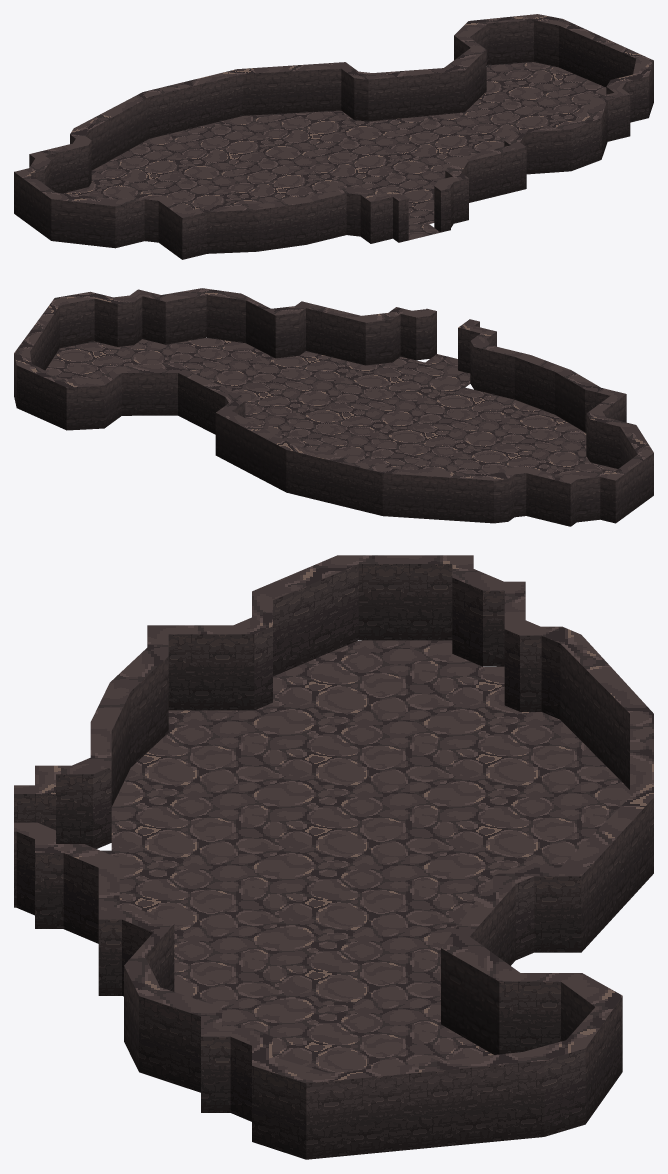
The model's file is map_mesh_titans_respite_8.glb.
3 renders of one model, top to bottom at view 1: azimuth 30°, elevation 25°; view 2: azimuth 150°, elevation 25°; view 3: azimuth 270°, elevation 25°, orthographic. The views are drawn at different scales.
Parts seen in each view (by area): view 1: Plane.111, Plane.112; view 2: Plane.111, Plane.112; view 3: Plane.111, Plane.112.
Boxes of the visible parts, x1,y1,x2,y2 form: Plane.111: (14, 14, 653, 259); Plane.112: (64, 62, 606, 240); Plane.111: (14, 288, 653, 526); Plane.112: (45, 338, 617, 476); Plane.111: (14, 555, 653, 1159); Plane.112: (101, 640, 629, 1073).
Size of the model in its own units: 29.72 by 2 by 15.22.
Materials: 2 (2 with a texture image).
